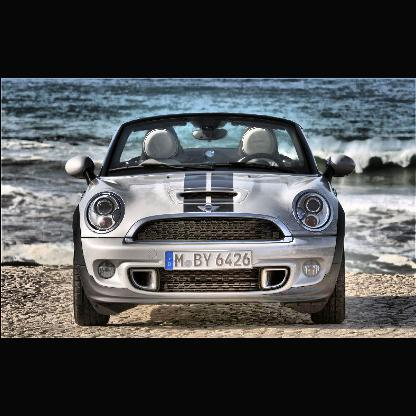MINI Cooper Roadster Convertible 2012: (64, 113, 356, 327)
